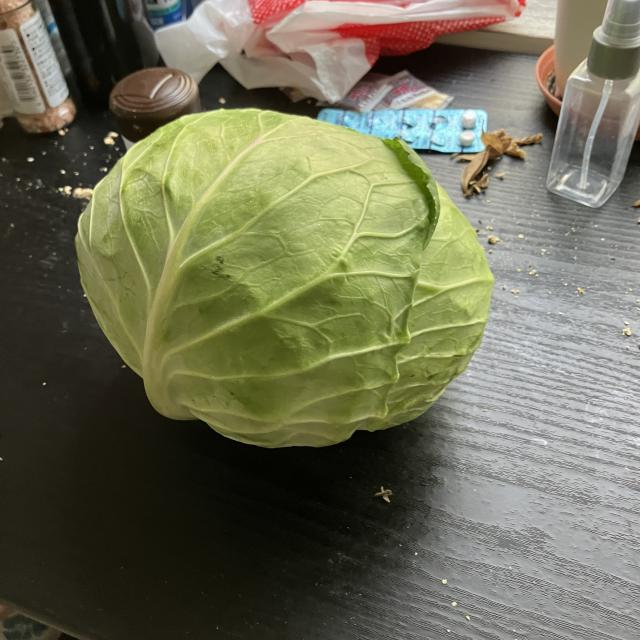cabbage: (71, 106, 495, 456)
